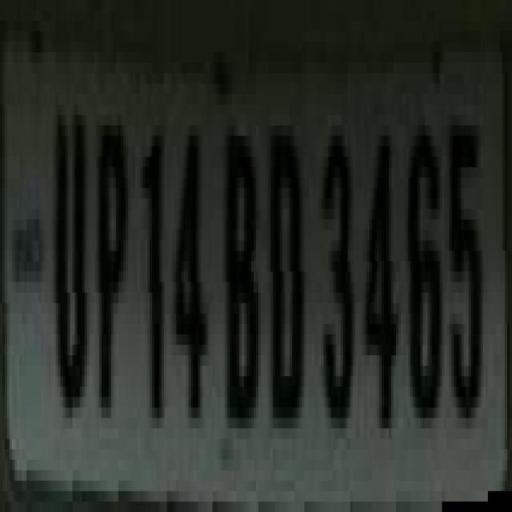number plate: (17, 21, 512, 512)
